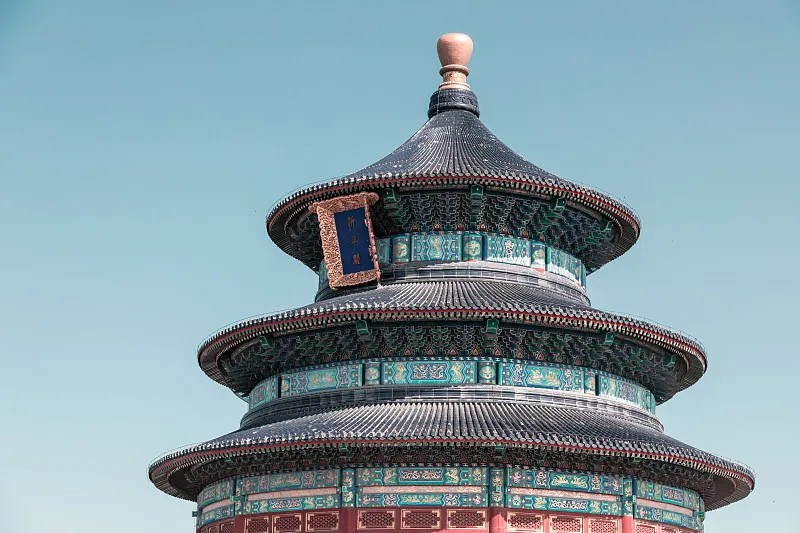Heaven: (147, 29, 756, 533)
